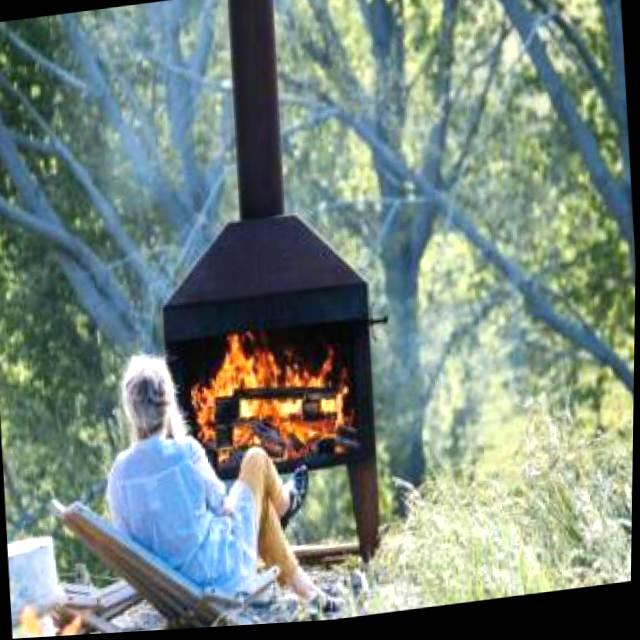fire: (180, 312, 360, 488)
